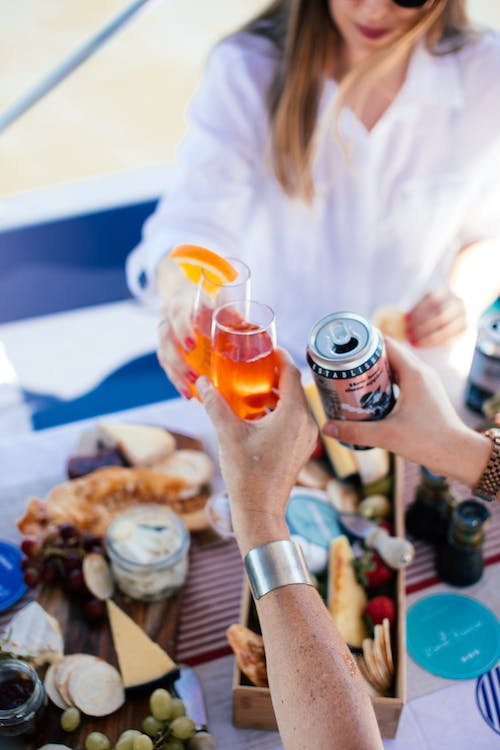alcohol: (304, 310, 397, 451), (169, 256, 252, 402), (209, 298, 280, 422), (459, 314, 500, 430)
